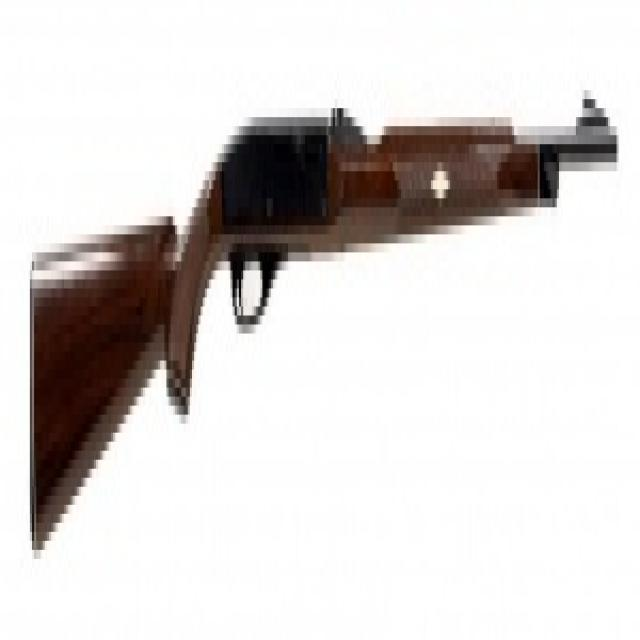weapon: (17, 58, 622, 588)
